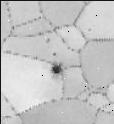good_void: (49, 64, 61, 74), (51, 51, 56, 56), (45, 37, 49, 43), (87, 28, 90, 31)
